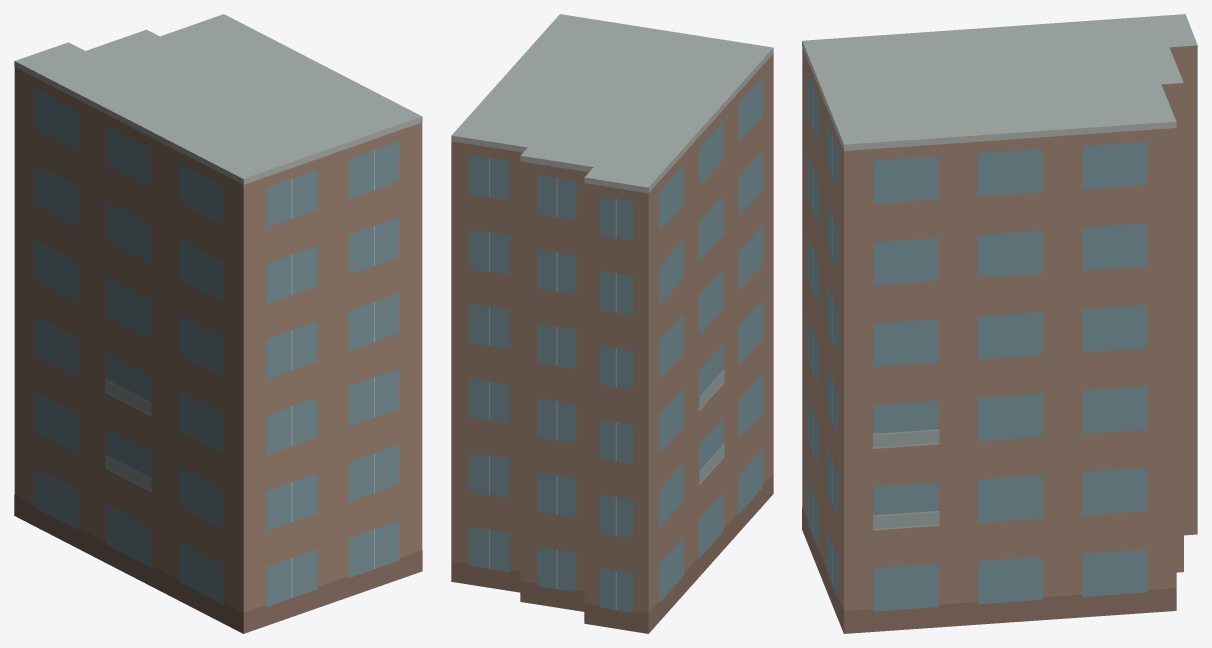
Rendered from survey-upis-32945286.glb.
3 views of the same model, side by side, from view 1: azimuth 30°, elevation 25°; view 2: azimuth 150°, elevation 25°; view 3: azimuth 270°, elevation 25° (orthographic). The views are drawn at different scales.
Parts seen in each view (by area): view 1: survey-upis-32945286.tmp; view 2: survey-upis-32945286.tmp; view 3: survey-upis-32945286.tmp.
Part boxes in pixels (x1,y1,x2,y2): survey-upis-32945286.tmp: [14, 14, 422, 633]; survey-upis-32945286.tmp: [451, 14, 773, 633]; survey-upis-32945286.tmp: [802, 14, 1197, 633].
Size of the model in its own units: 10.88 by 18.97 by 13.91.
